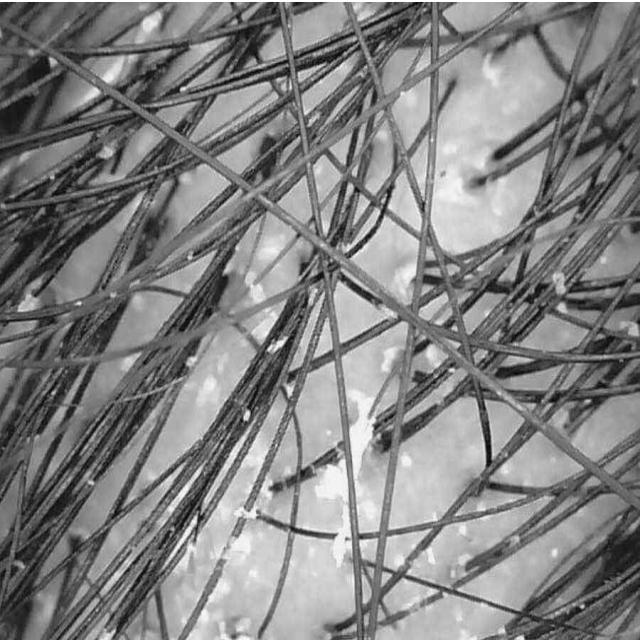d: (315, 458, 350, 567), (349, 390, 374, 482), (56, 78, 99, 116), (135, 4, 174, 43), (91, 56, 139, 84), (219, 618, 252, 640), (209, 577, 232, 607), (380, 346, 401, 373), (16, 292, 40, 313), (266, 336, 288, 354), (552, 272, 568, 296), (233, 534, 251, 555), (259, 480, 271, 507), (620, 321, 640, 337), (249, 284, 266, 302), (234, 507, 258, 519), (218, 620, 232, 640), (458, 627, 478, 640), (426, 547, 436, 566), (458, 554, 472, 567), (454, 609, 464, 626), (185, 355, 198, 368), (551, 547, 559, 559), (459, 524, 466, 536), (244, 409, 250, 422)
